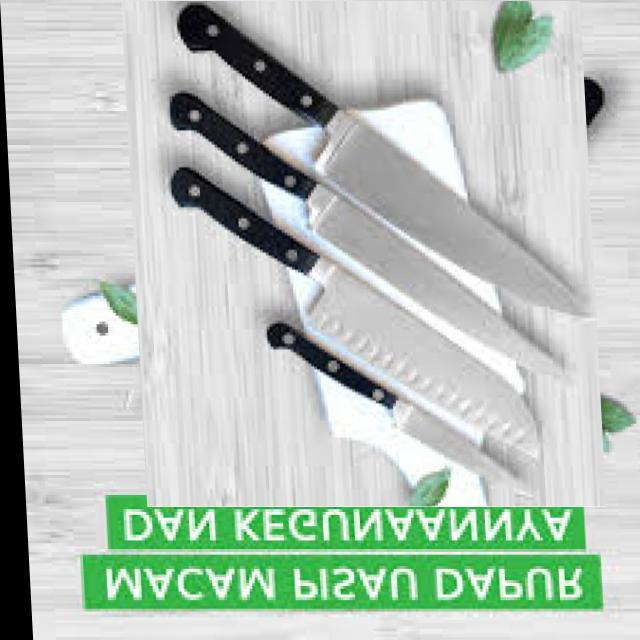knife: (173, 2, 613, 318), (168, 91, 576, 384), (170, 164, 544, 464), (264, 320, 536, 497)
